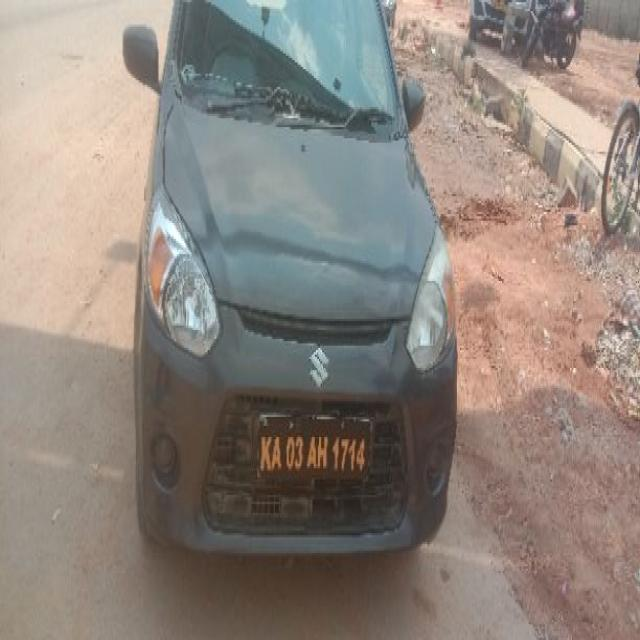license_plate: (250, 408, 372, 491)
